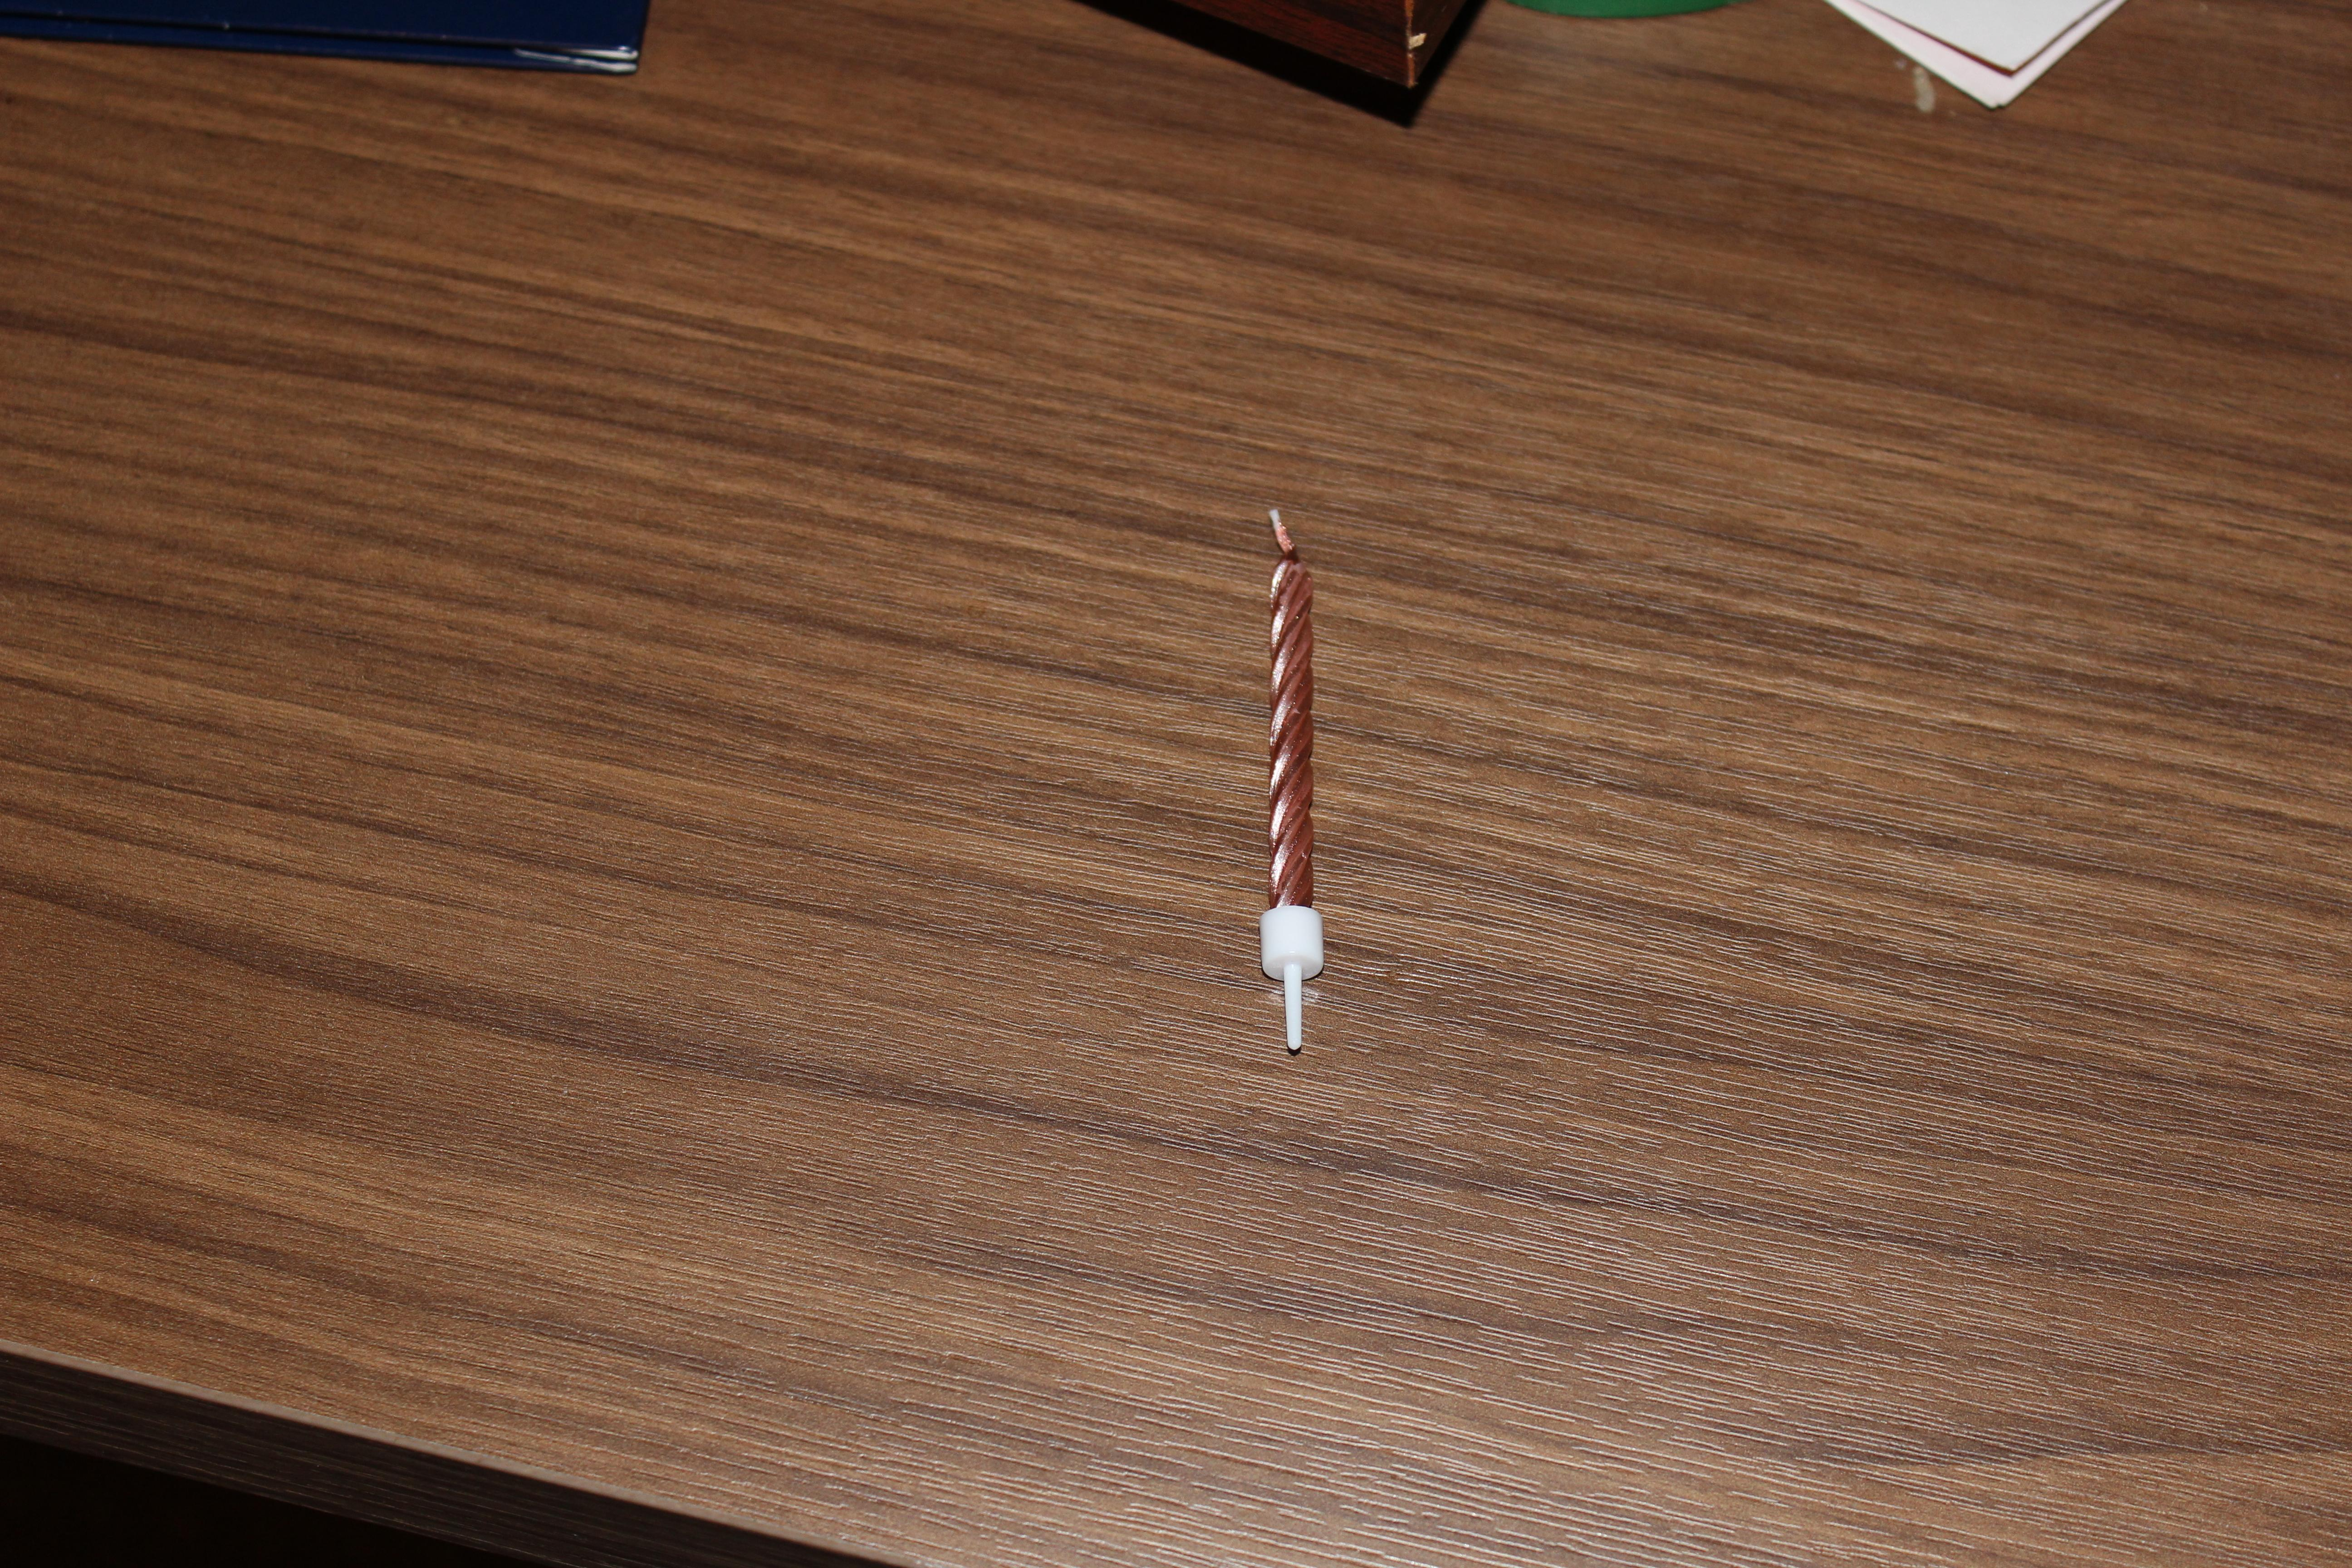pinkCandle: (1192, 485, 1377, 1076)
